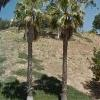Palm tree: (11, 2, 82, 99)
